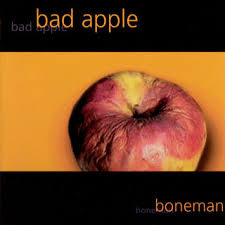damaged_apple: (65, 69, 204, 176)
